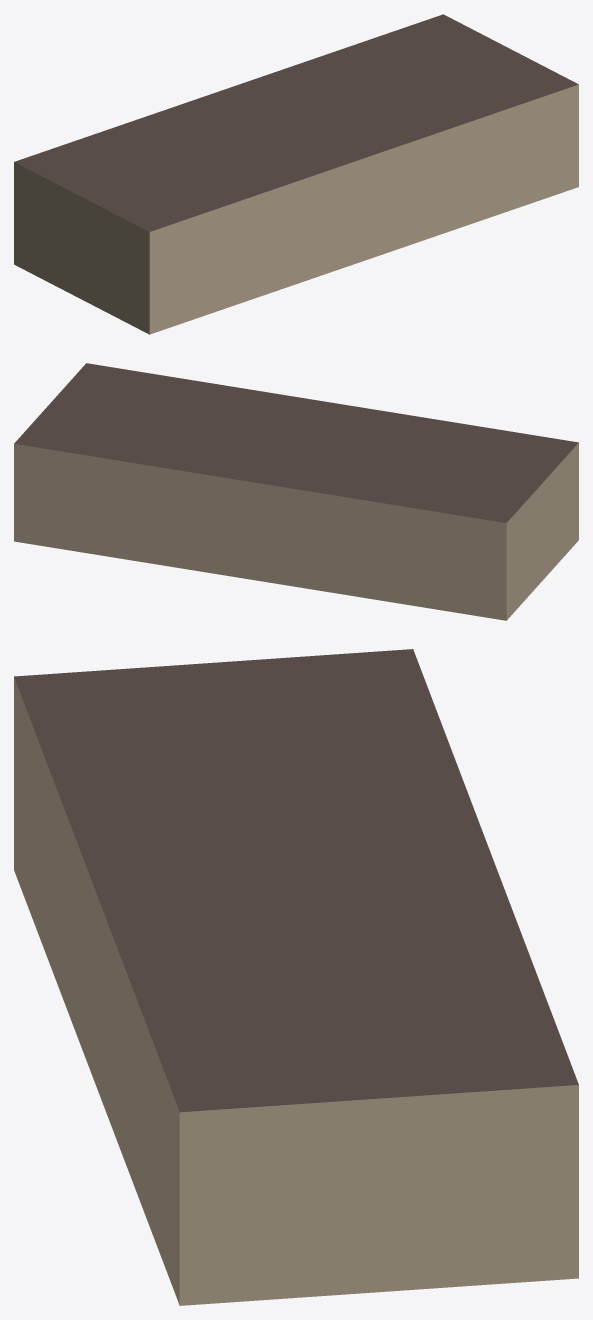
The picture shows the model from 3 angles, top to bottom: view 1: azimuth 30°, elevation 25°; view 2: azimuth 150°, elevation 25°; view 3: azimuth 270°, elevation 25°; orthographic projection. The views are drawn at different scales.
Parts seen in each view (by area): view 1: HP-w859078975; view 2: HP-w859078975; view 3: HP-w859078975.
Boxes of the visible parts, box(x1,y1,x2,y2) form: HP-w859078975: box(14, 14, 578, 334); HP-w859078975: box(14, 363, 578, 620); HP-w859078975: box(14, 649, 578, 1305).
Bounding box in the file's own units: 46.18 × 9 × 23.8.
